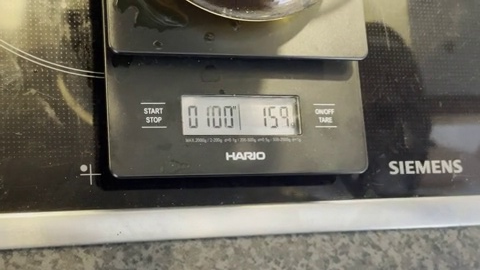display: (181, 95, 300, 134)
